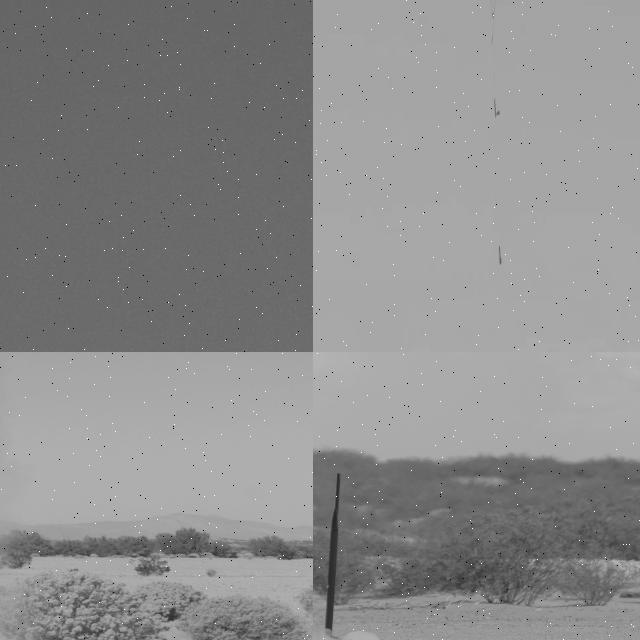Rocket: (313, 505, 344, 640), (499, 245, 502, 265)
